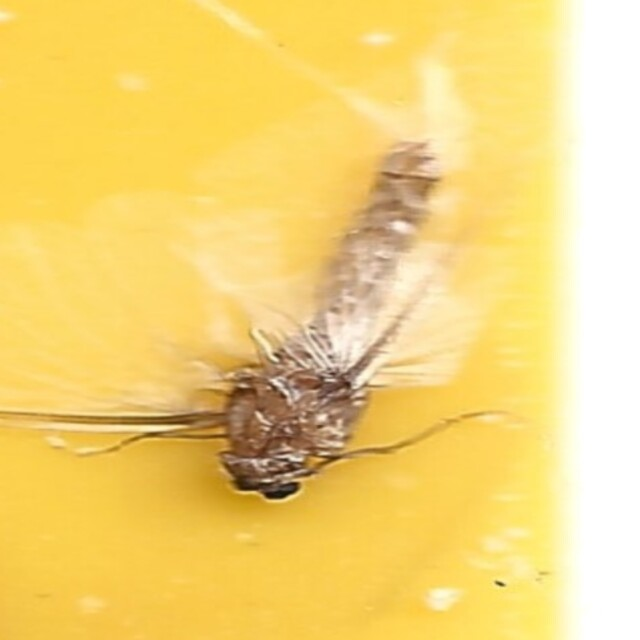Ephemeroptera: (201, 127, 439, 513)
